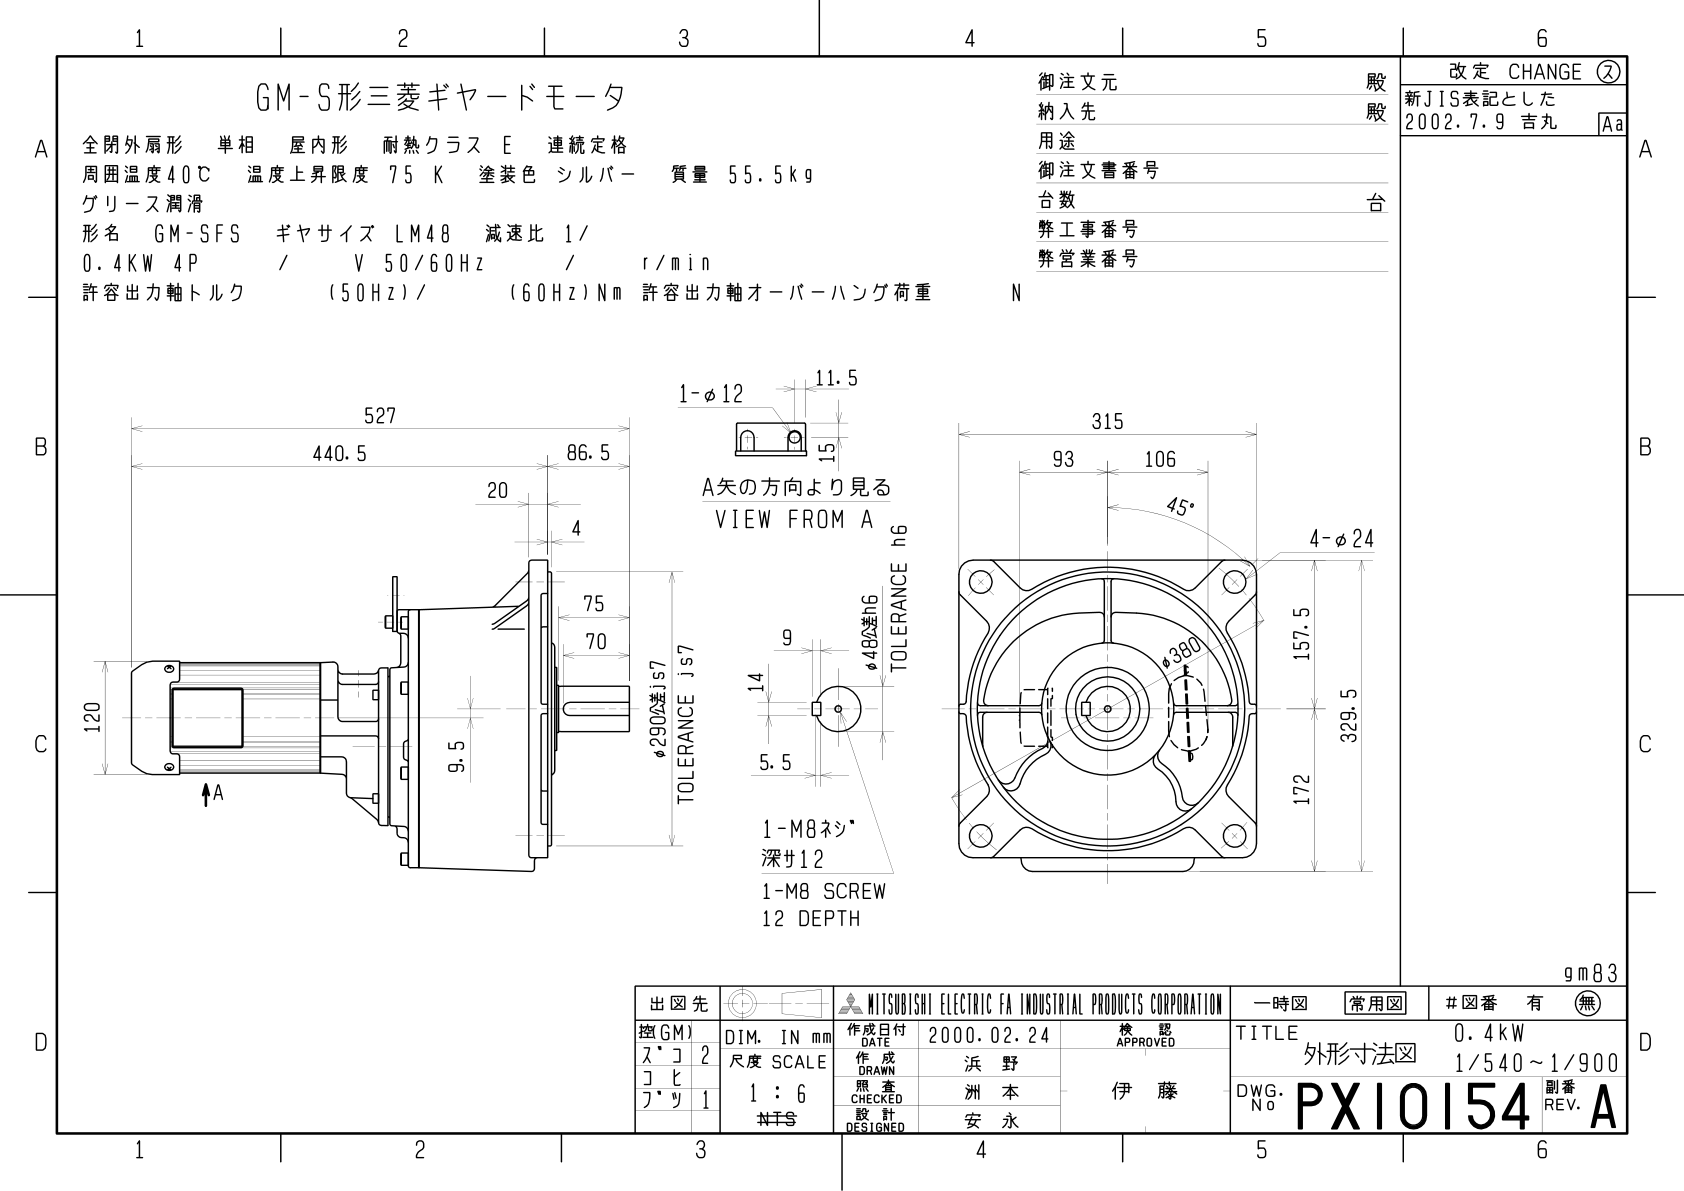GM_S_屋内＿単相_フランジ: (75, 354, 1393, 938)
